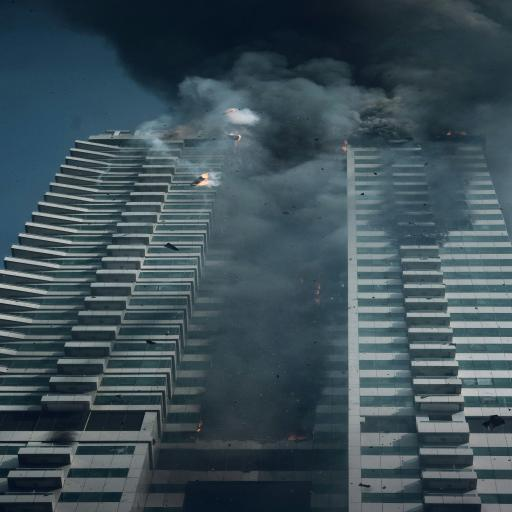smoke: (48, 0, 511, 439)
